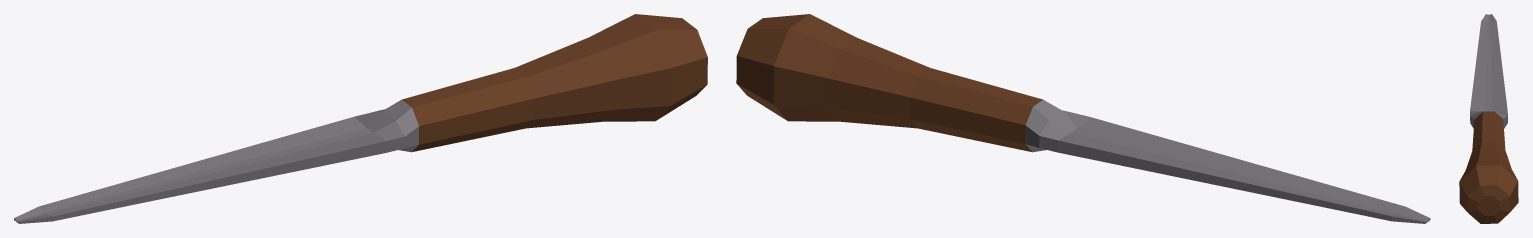
The model's file is letteropener01.gltf.
3 renders of one model, left to right at view 1: azimuth 30°, elevation 25°; view 2: azimuth 150°, elevation 25°; view 3: azimuth 270°, elevation 25°, orthographic. The views are drawn at different scales.
Visible parts, largest first — view 1: Cylinder; view 2: Cylinder; view 3: Cylinder.
Part boxes in pixels (x1=…): Cylinder: x1=14, y1=14, x2=707, y2=223; Cylinder: x1=736, y1=14, x2=1430, y2=223; Cylinder: x1=1459, y1=14, x2=1518, y2=223.
Size of the model in its own units: 0.2039 by 0.0267 by 0.0267.
1 material, 1 textured.
